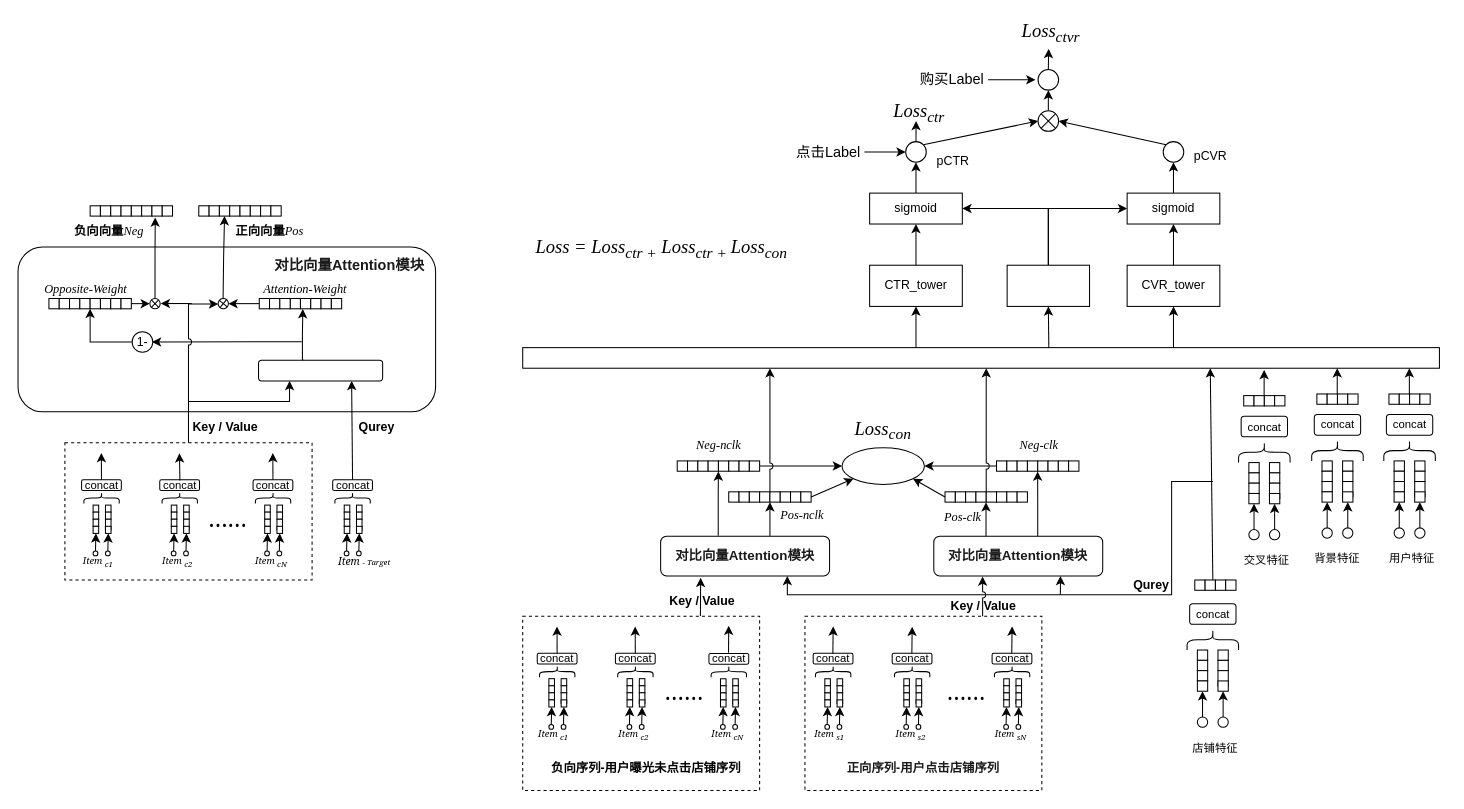
Image size: 1464x809. Some labels were removed from this diagram. The box of each missing label's shape, as (x1, y1, x2, y2) in pixels:
All Features Embedding: (522, 347, 1439, 368)
Bias_tower: (1006, 264, 1090, 306)
Muti-Head Attention: (258, 359, 383, 381)
对比学习 Loss: (841, 447, 924, 484)
